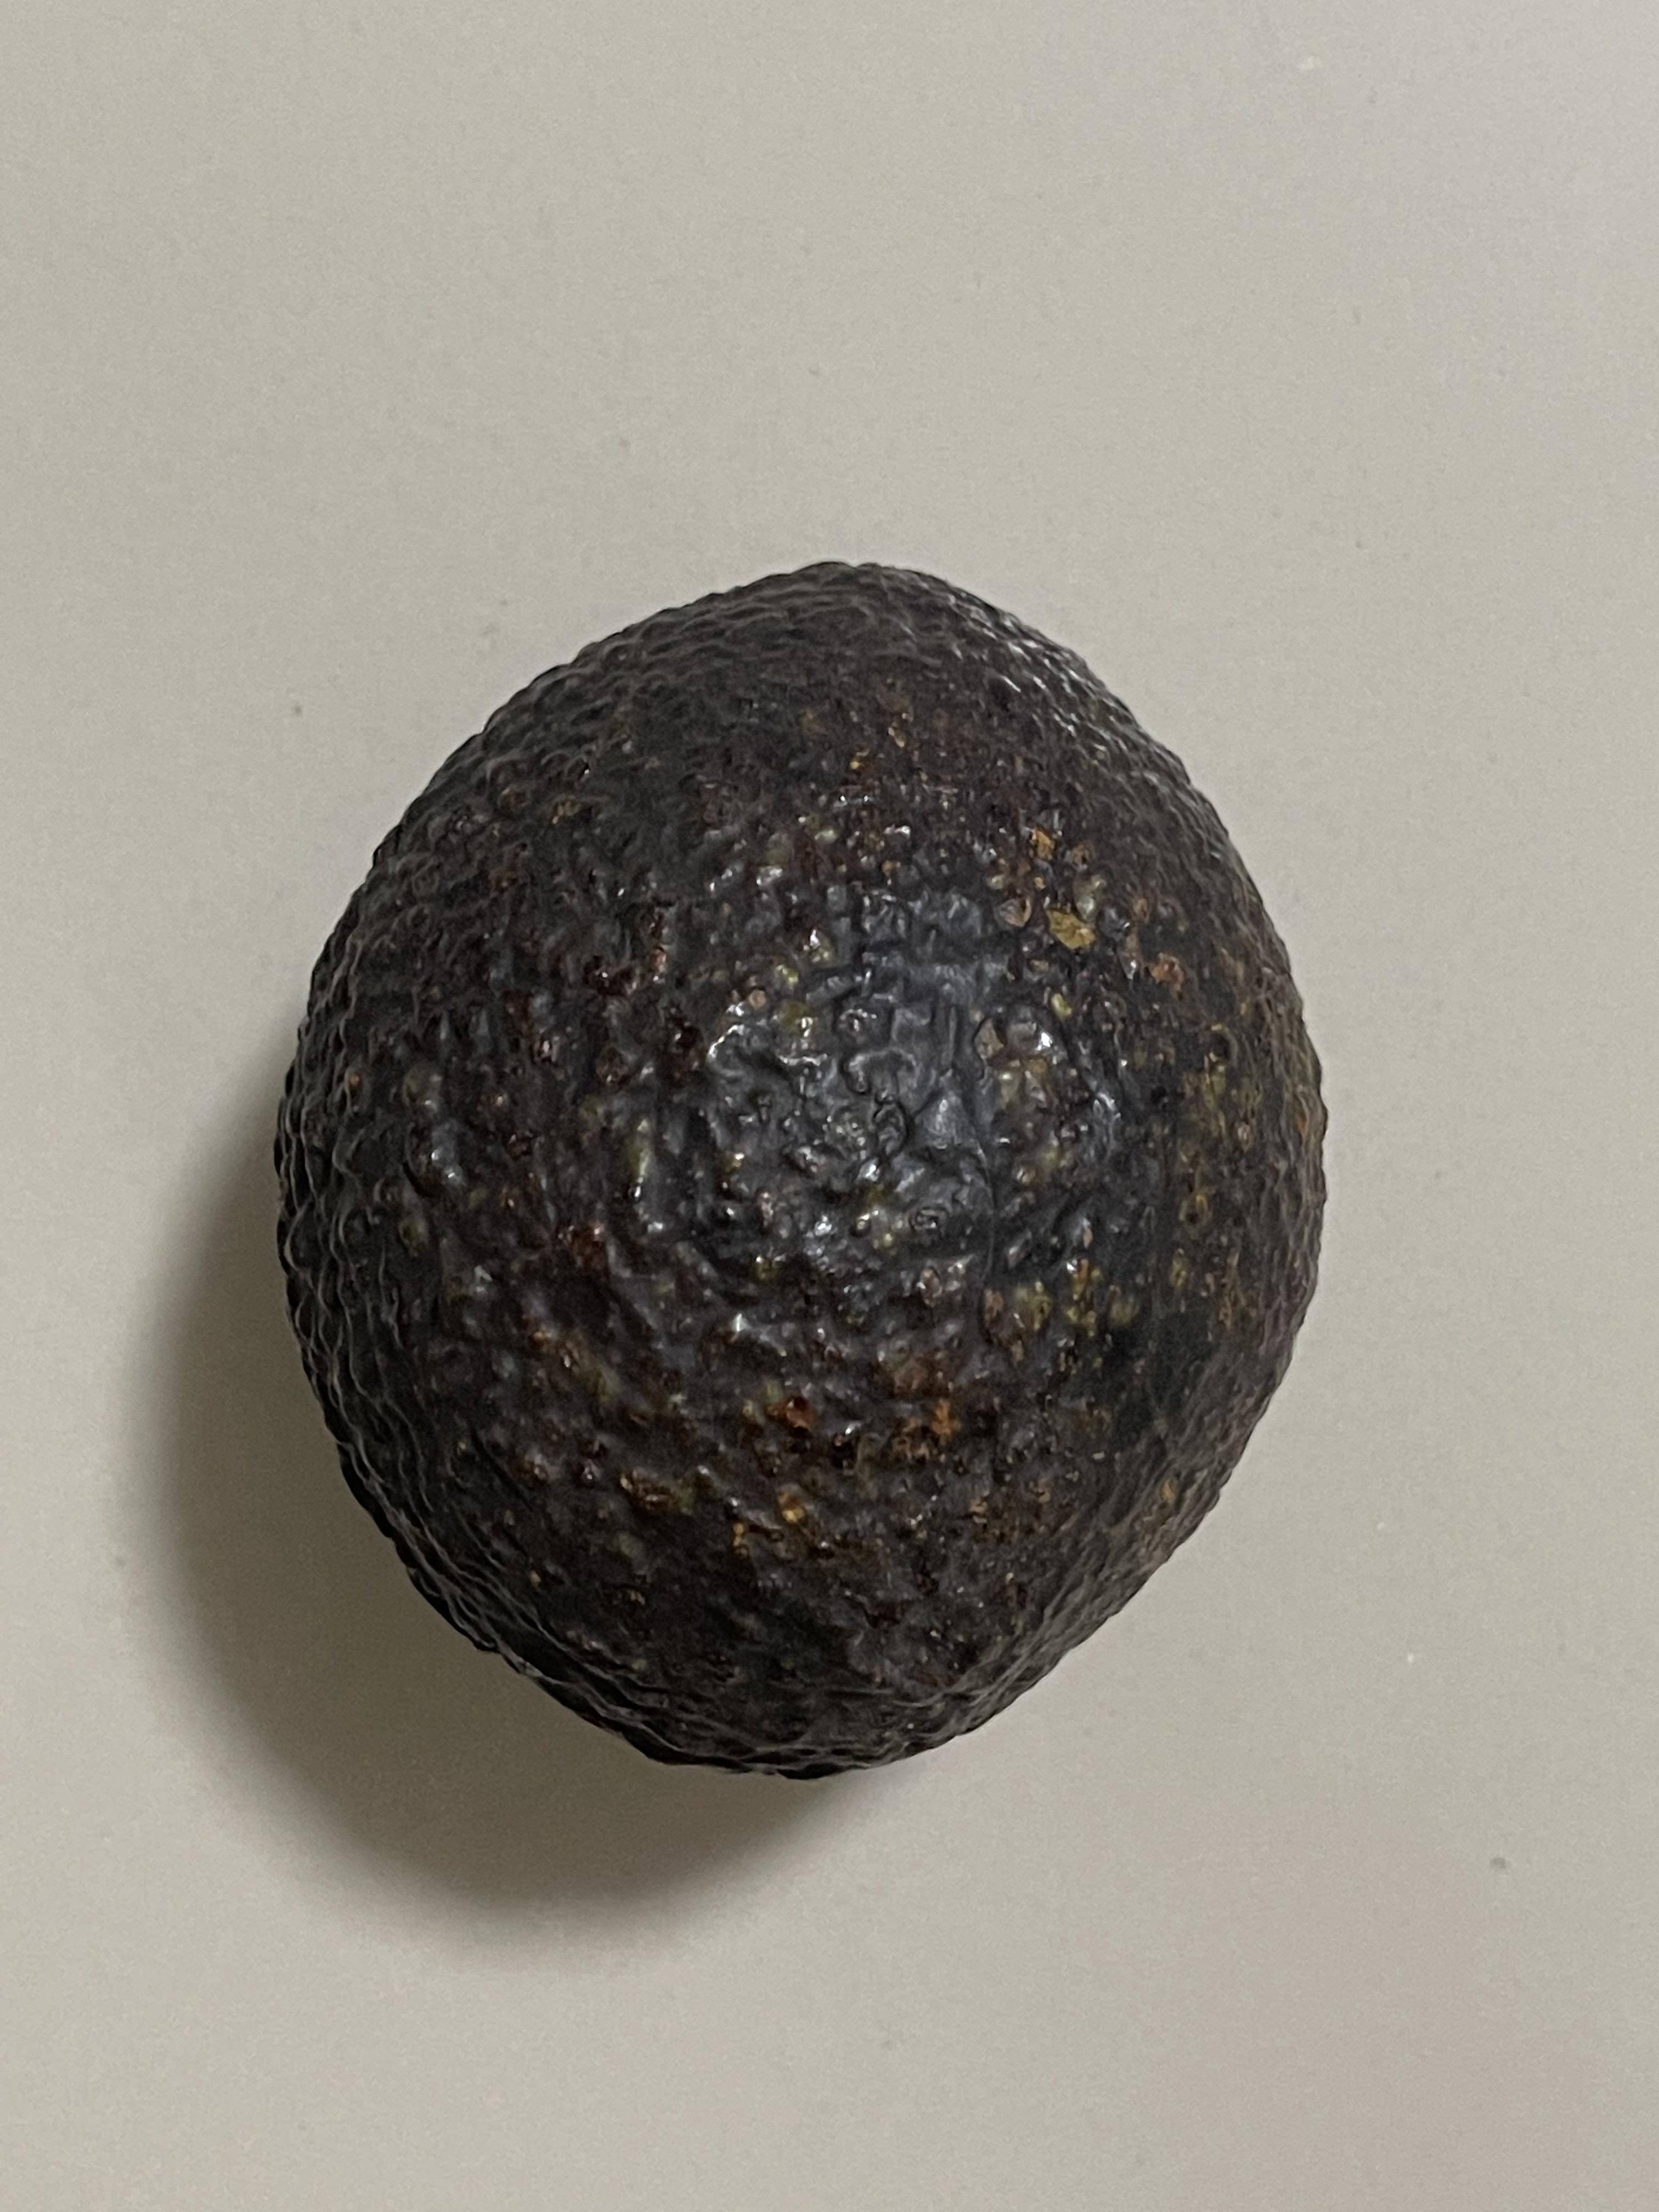Level1: (242, 521, 1363, 1811)
